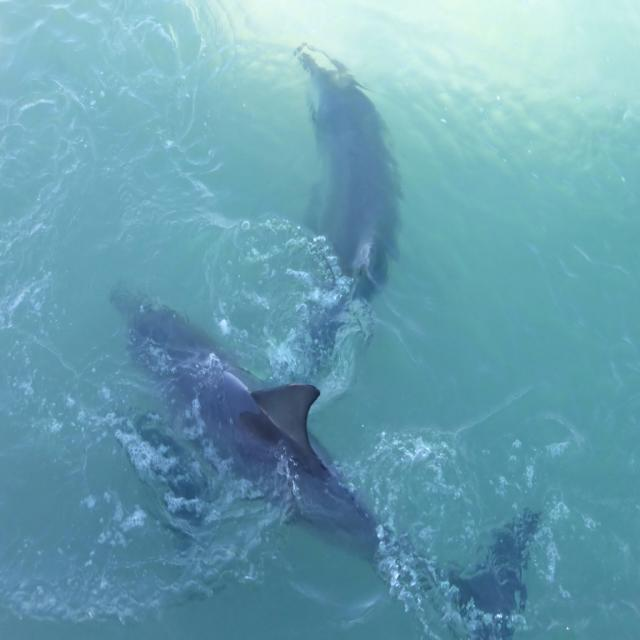Shark: (110, 289, 538, 639)
